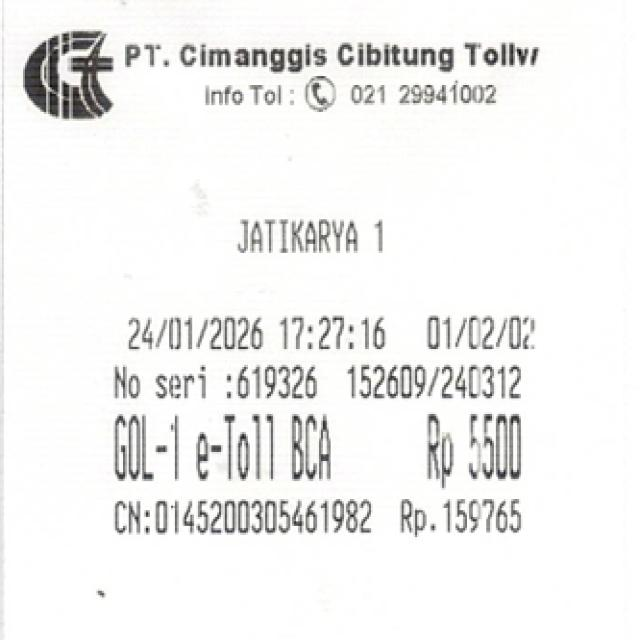date: (121, 308, 391, 358)
store: (116, 40, 564, 78)
total: (404, 404, 539, 487)
